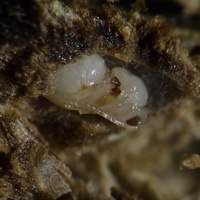insect: (46, 52, 148, 130)
